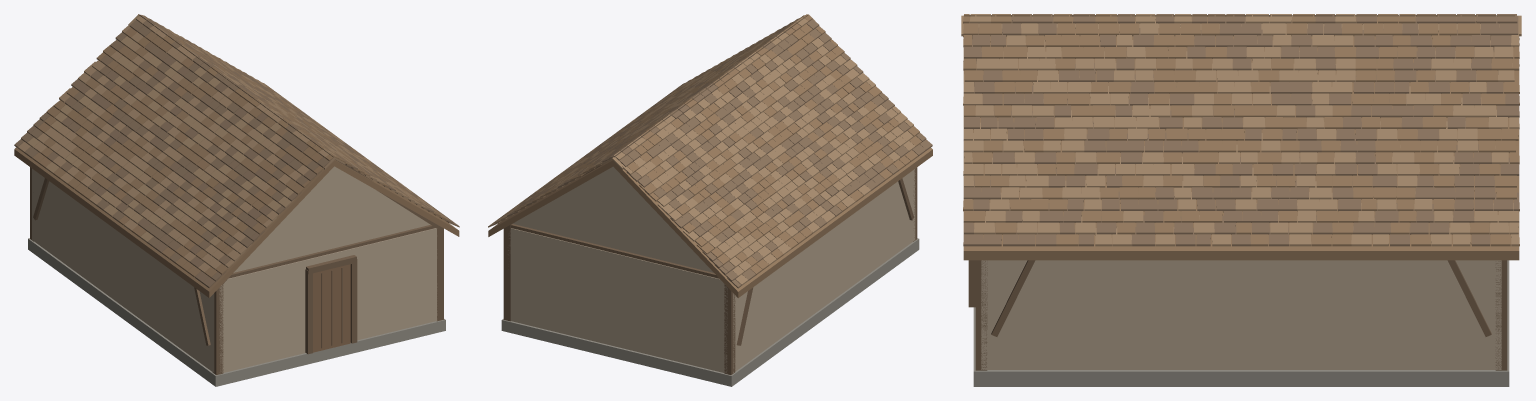
Rendered from stone_door_constant_A.glb.
The picture shows the model from 3 angles, left to right: view 1: azimuth 30°, elevation 25°; view 2: azimuth 150°, elevation 25°; view 3: azimuth 270°, elevation 25°; orthographic projection. The views are drawn at different scales.
Parts seen in each view (by area): view 1: 09A_ShingleField.003, 08A_SideClay.006, 08A_GableClay.006, 08A_FrontClay.006, 08A_FrontClay.007, 08A_Sill.003, 09A_Deck.006, 08A_Door.003, 09A_Deck.007, 08A_EndWallPlate.006, 08A_CornerPost.012, 08A_DoorJamb.006 (+3 smaller); view 2: 09A_ShingleField.003, 08A_RearClay.003, 08A_SideClay.006, 08A_GableClay.007, 08A_Sill.003, 09A_Deck.006, 09A_Deck.007, 08A_EndWallPlate.007, 08A_CornerPost.013, 08A_CornerPost.015; view 3: 09A_ShingleField.003, 08A_SideClay.007, 09A_Deck.007, 08A_Sill.003, 08A_CornerPost.014, 08A_CornerPost.015, 08A_SideBrace.014, 08A_SideBrace.015.
Part boxes in pixels (x1,y1,x2,y2): 09A_ShingleField.003: (14,14,459,287); 08A_SideClay.006: (32,168,214,372); 08A_GableClay.006: (233,166,430,272); 08A_FrontClay.006: (219,259,310,372); 08A_FrontClay.007: (350,228,437,340); 08A_Sill.003: (28,238,445,386); 09A_Deck.006: (14,147,334,297); 08A_Door.003: (313,264,350,352); 09A_Deck.007: (334,160,459,236); 08A_EndWallPlate.006: (228,225,435,278); 08A_CornerPost.012: (212,284,223,374); 08A_DoorJamb.006: (305,269,312,354); 09A_ShingleField.003: (488,14,932,288); 08A_RearClay.003: (508,228,727,373); 08A_SideClay.006: (733,169,915,372); 08A_GableClay.007: (513,166,713,272); 08A_Sill.003: (501,238,919,386); 09A_Deck.006: (613,148,932,297); 09A_Deck.007: (488,159,613,236); 08A_EndWallPlate.007: (511,224,719,278); 08A_CornerPost.013: (724,284,735,374); 08A_CornerPost.015: (503,223,512,321); 09A_ShingleField.003: (963,14,1519,246); 08A_SideClay.007: (981,260,1501,369); 09A_Deck.007: (963,36,1519,260); 08A_Sill.003: (973,260,1509,386); 08A_CornerPost.014: (975,260,987,370); 08A_CornerPost.015: (1495,260,1507,370); 08A_SideBrace.014: (991,260,1035,336); 08A_SideBrace.015: (1447,260,1491,336).
Size of the model in its own units: 5.78 by 4.53 by 7.87.
